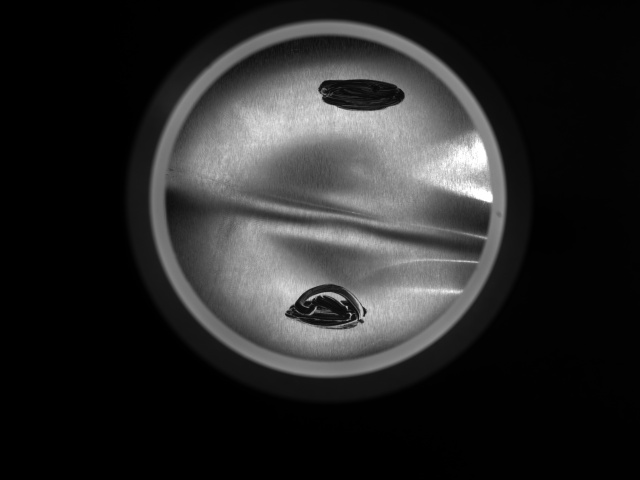zang_wu: (282, 280, 369, 331), (314, 76, 409, 117)
zhe_zhou: (201, 69, 446, 331)
